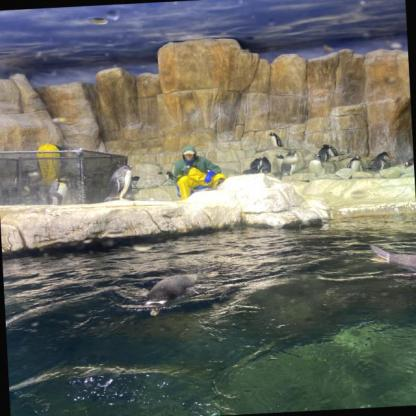penguin: (144, 267, 217, 317), (366, 237, 416, 281), (106, 163, 142, 206), (45, 174, 74, 208), (278, 145, 306, 180), (366, 152, 392, 174), (344, 154, 365, 175), (255, 154, 274, 177), (323, 139, 345, 158), (273, 150, 288, 177), (267, 130, 284, 151), (314, 144, 330, 165), (400, 153, 414, 173)
